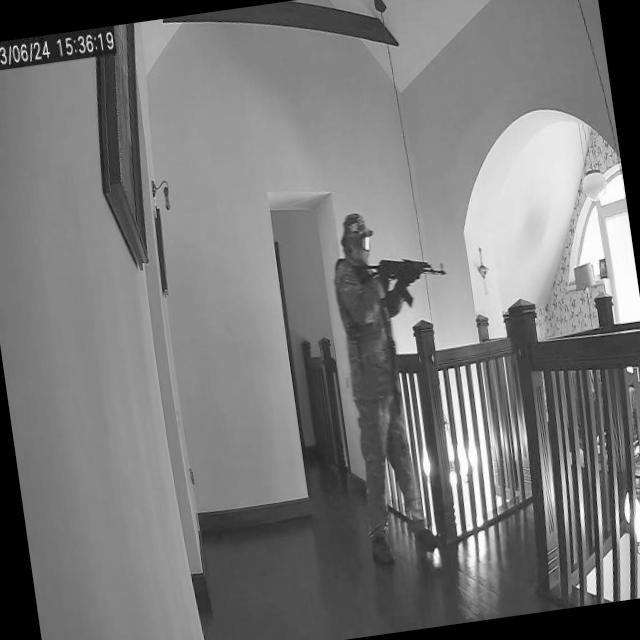gun: (352, 247, 450, 294)
person with a gun: (326, 199, 488, 568)
